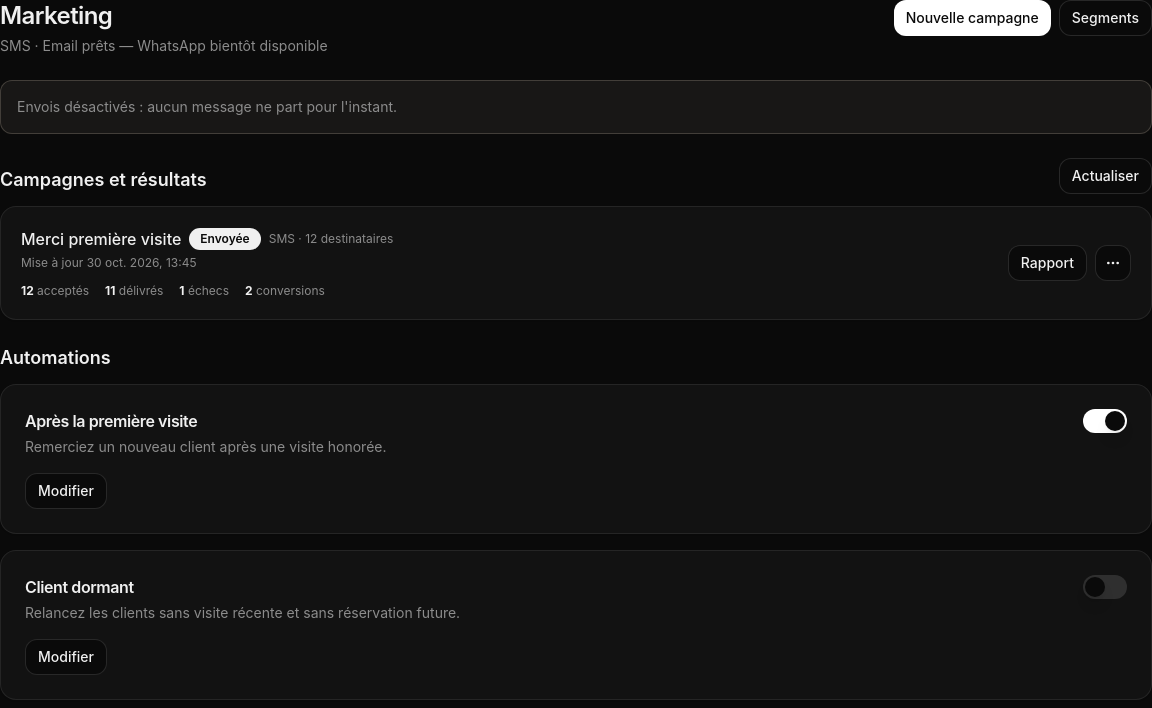
Scenario: MarketingPage › refuse d’enregistrer un message sans lien de désinscription, avec un texte clair
This screenshot has width=1152, height=708.
Check: the heading "Marketing" is shown, box 0,0 -> 112,32
Click the button "Modifier" below "Après la première visite": click(66, 491) 25,473 -> 107,509
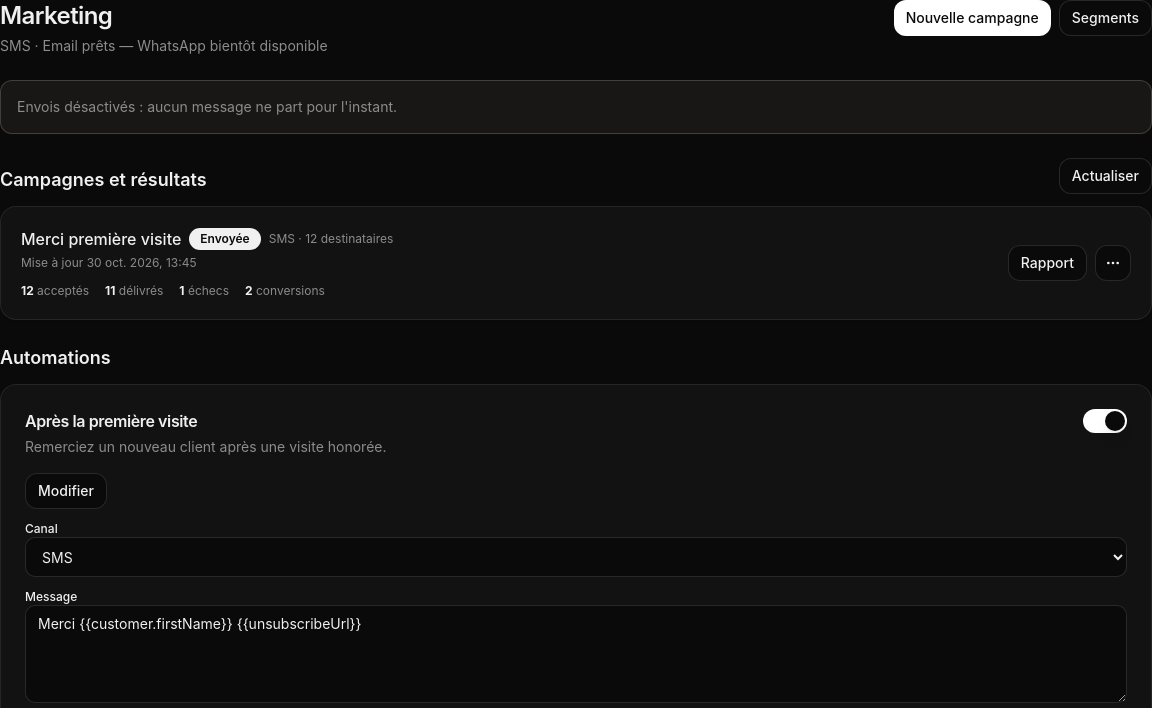
Replace the text in the text box with "Merci à vous": (576, 654) 25,605 -> 1127,703
(page scrolled)
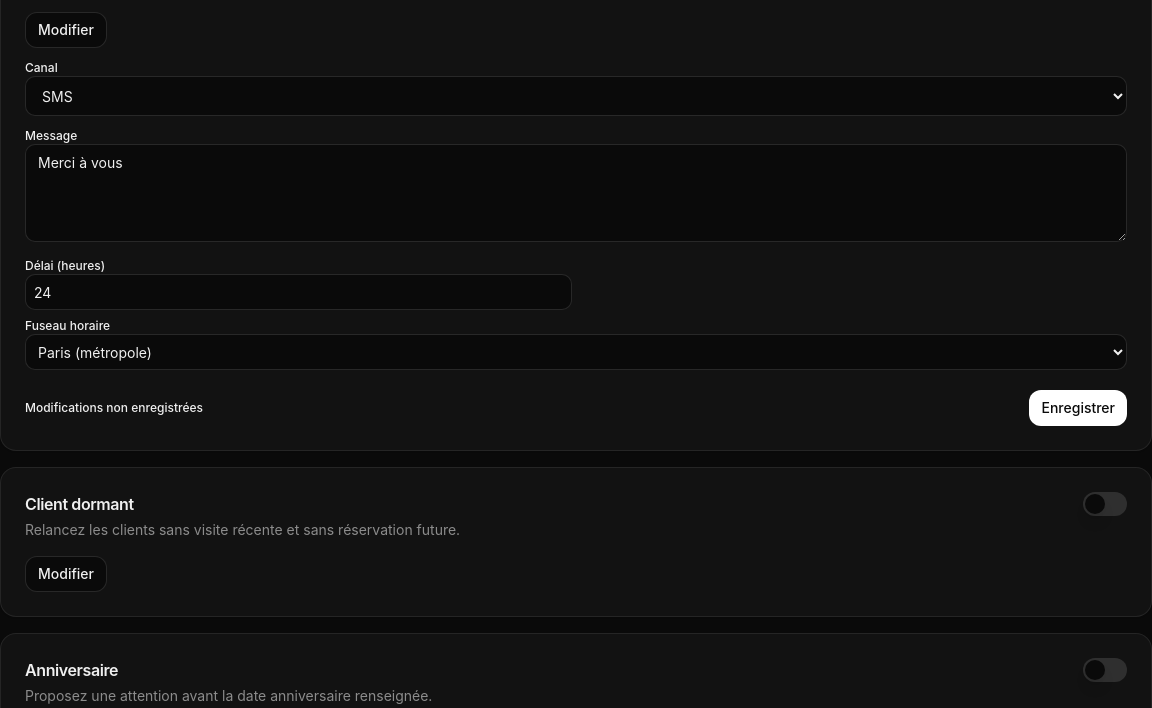
Click the button "Enregistrer": click(1078, 408) 1030,390 -> 1127,426
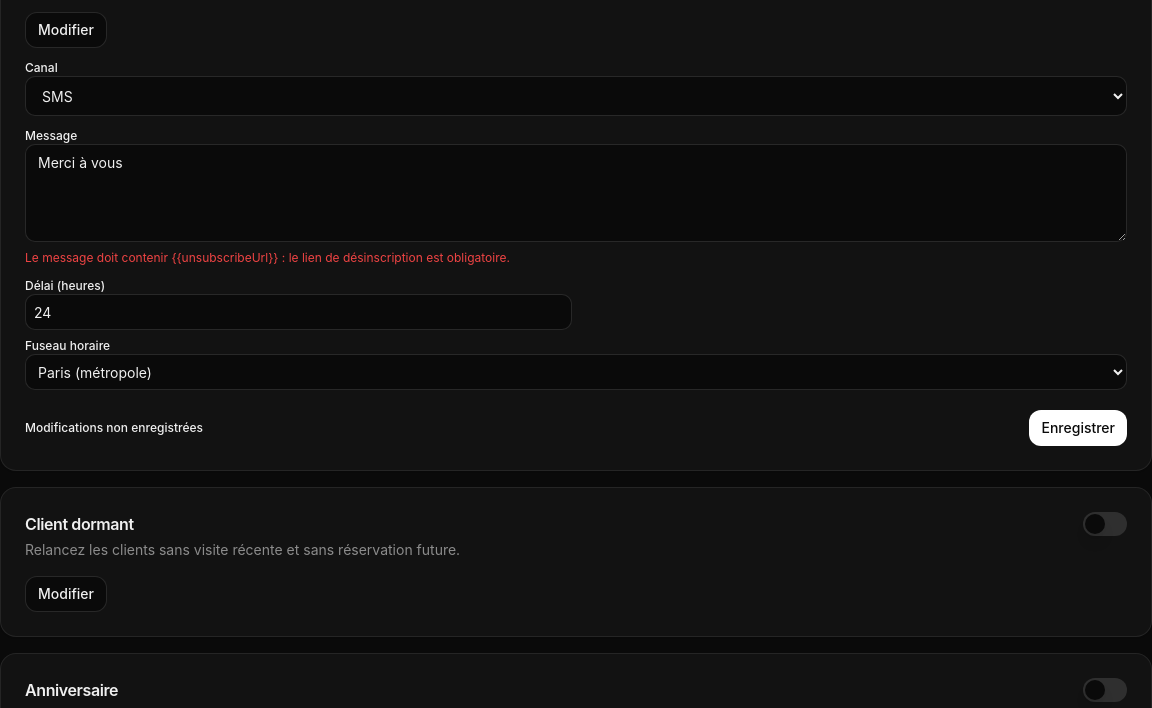
Check: the text "Le message doit contenir {{unsubscribeUrl}}" is shown, box 25,250 -> 510,265
